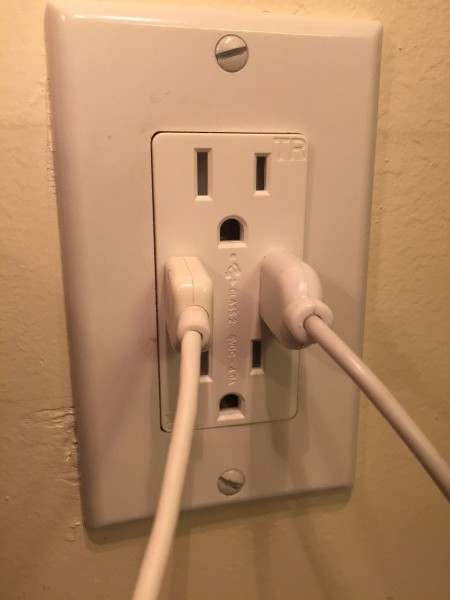outlet: (186, 140, 283, 251)
